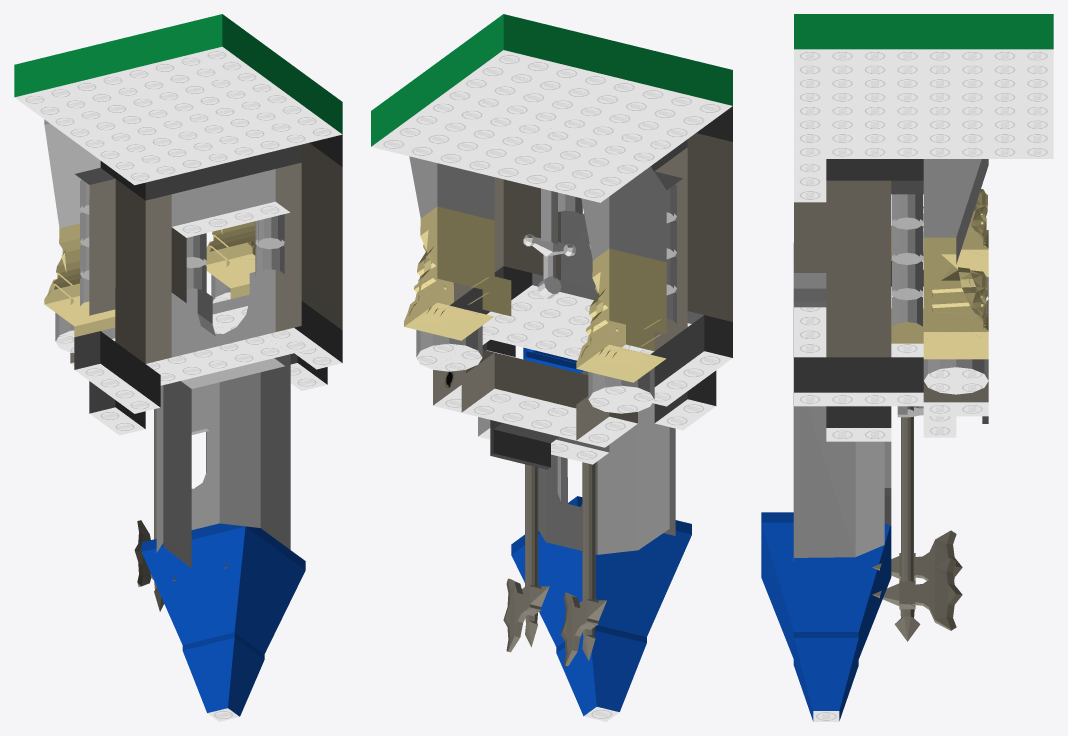
The picture shows the model from 3 angles, left to right: view 1: azimuth 30°, elevation 25°; view 2: azimuth 150°, elevation 25°; view 3: azimuth 270°, elevation 25°; orthographic projection. The views are drawn at different scales.
Parts seen in each view (by area): view 1: 063_OC_6094-1_PART_2, 052_OC_6094-1_Turret, 004_OC_6094-1_PART_1, 057_OC_6094-1_BLACK_TOP, 060_OC_6094-1_BLACK_TOP, 036_OC_6094-1_PART_8.2; view 2: 063_OC_6094-1_PART_2, 004_OC_6094-1_PART_1, 052_OC_6094-1_Turret, 042_OC_6094-1_Pivot_brick, 057_OC_6094-1_BLACK_TOP, 036_OC_6094-1_PART_8.2, 032_OC_6094-1_PART_8.3, 029_OC_6094-1_PART_8.1, 046_OC_6094-1_Pivot_mount, 019_OC_6094-1_PART_10, 060_OC_6094-1_BLACK_TOP; view 3: 063_OC_6094-1_PART_2, 004_OC_6094-1_PART_1, 052_OC_6094-1_Turret, 060_OC_6094-1_BLACK_TOP, 032_OC_6094-1_PART_8.3, 046_OC_6094-1_Pivot_mount, 036_OC_6094-1_PART_8.2, 029_OC_6094-1_PART_8.1.
Part boxes in pixels (bbox=[...]): 063_OC_6094-1_PART_2: bbox=[44, 119, 342, 385]; 052_OC_6094-1_Turret: bbox=[141, 354, 305, 721]; 004_OC_6094-1_PART_1: bbox=[14, 14, 342, 185]; 057_OC_6094-1_BLACK_TOP: bbox=[74, 331, 160, 435]; 060_OC_6094-1_BLACK_TOP: bbox=[290, 301, 342, 390]; 036_OC_6094-1_PART_8.2: bbox=[134, 408, 176, 611]; 063_OC_6094-1_PART_2: bbox=[404, 106, 732, 413]; 004_OC_6094-1_PART_1: bbox=[371, 14, 732, 202]; 052_OC_6094-1_Turret: bbox=[511, 371, 691, 721]; 042_OC_6094-1_Pivot_brick: bbox=[461, 352, 588, 440]; 057_OC_6094-1_BLACK_TOP: bbox=[650, 315, 732, 430]; 036_OC_6094-1_PART_8.2: bbox=[561, 462, 606, 666]; 032_OC_6094-1_PART_8.3: bbox=[503, 464, 549, 652]; 029_OC_6094-1_PART_8.1: bbox=[478, 417, 609, 469]; 046_OC_6094-1_Pivot_mount: bbox=[433, 350, 637, 447]; 019_OC_6094-1_PART_10: bbox=[523, 188, 575, 298]; 060_OC_6094-1_BLACK_TOP: bbox=[450, 266, 532, 357]; 063_OC_6094-1_PART_2: bbox=[793, 159, 988, 394]; 004_OC_6094-1_PART_1: bbox=[794, 14, 1053, 158]; 052_OC_6094-1_Turret: bbox=[761, 330, 891, 721]; 060_OC_6094-1_BLACK_TOP: bbox=[794, 357, 923, 441]; 032_OC_6094-1_PART_8.3: bbox=[872, 406, 962, 641]; 046_OC_6094-1_Pivot_mount: bbox=[923, 299, 988, 416]; 036_OC_6094-1_PART_8.2: bbox=[872, 530, 962, 580]; 029_OC_6094-1_PART_8.1: bbox=[897, 406, 988, 437].
Bounding box in the file's own units: 6.4 × 17.6 × 7.2.
Materials: 12 (2 with a texture image).
